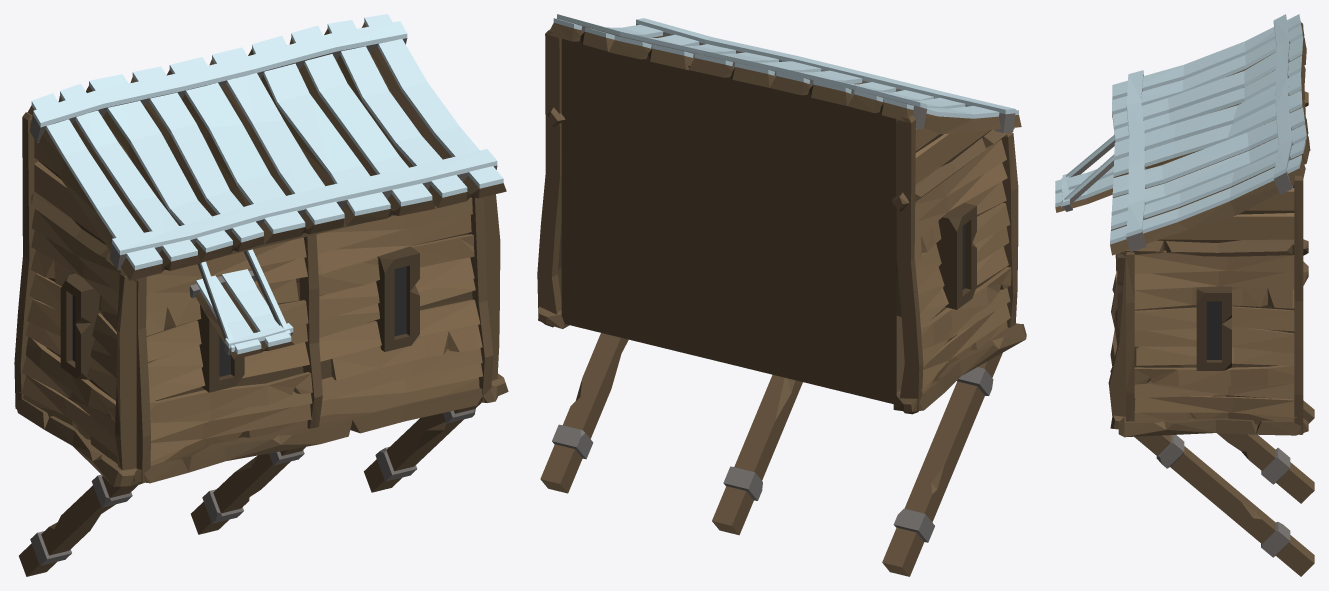
File: SM_Bld_Castle_Wood_Battlement_02_Snow.glb
3 renders of one model, left to right at view 1: azimuth 30°, elevation 25°; view 2: azimuth 150°, elevation 25°; view 3: azimuth 270°, elevation 25°, orthographic. The views are drawn at different scales.
Visible parts, largest first — view 1: SM_Bld_Castle_Wood_Battlement_02_Snow; view 2: SM_Bld_Castle_Wood_Battlement_02_Snow; view 3: SM_Bld_Castle_Wood_Battlement_02_Snow.
Part boxes in pixels (left/top/right/bottom): SM_Bld_Castle_Wood_Battlement_02_Snow: left=14, top=14, right=508, bottom=576; SM_Bld_Castle_Wood_Battlement_02_Snow: left=537, top=14, right=1026, bottom=576; SM_Bld_Castle_Wood_Battlement_02_Snow: left=1055, top=14, right=1314, bottom=576.
Size of the model in its own units: 3.15 by 3.65 by 2.08.
Materials: 1 (1 with a texture image).
